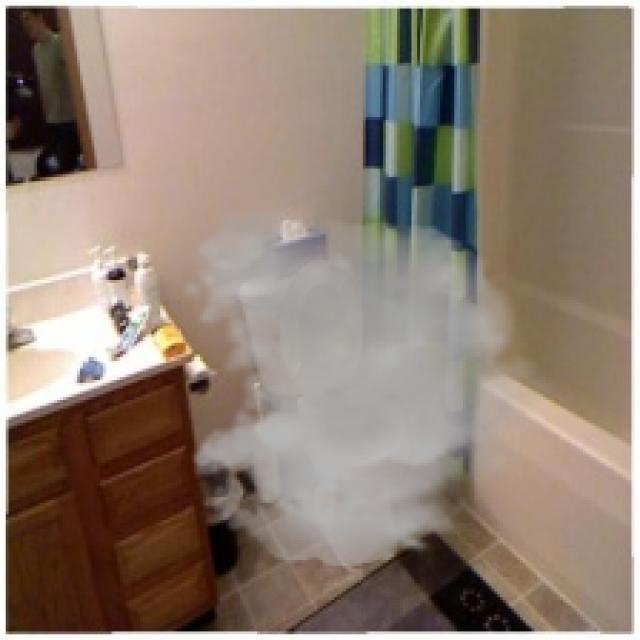Smoke: (180, 205, 566, 566)
